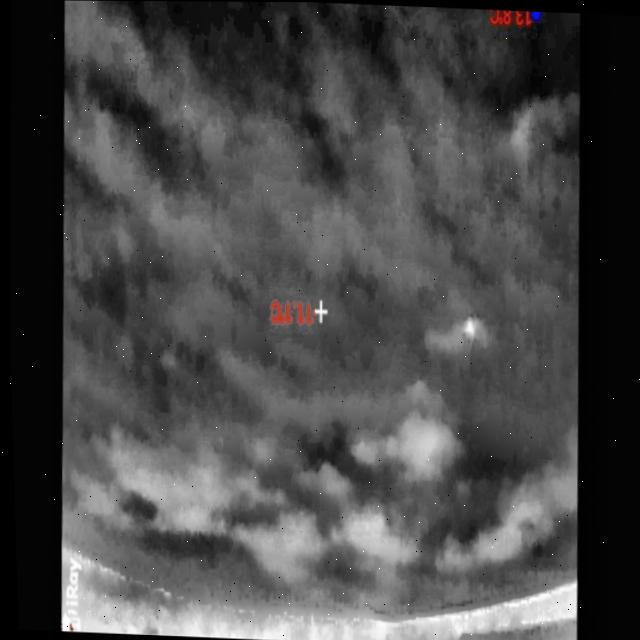drone: (459, 308, 479, 347)
